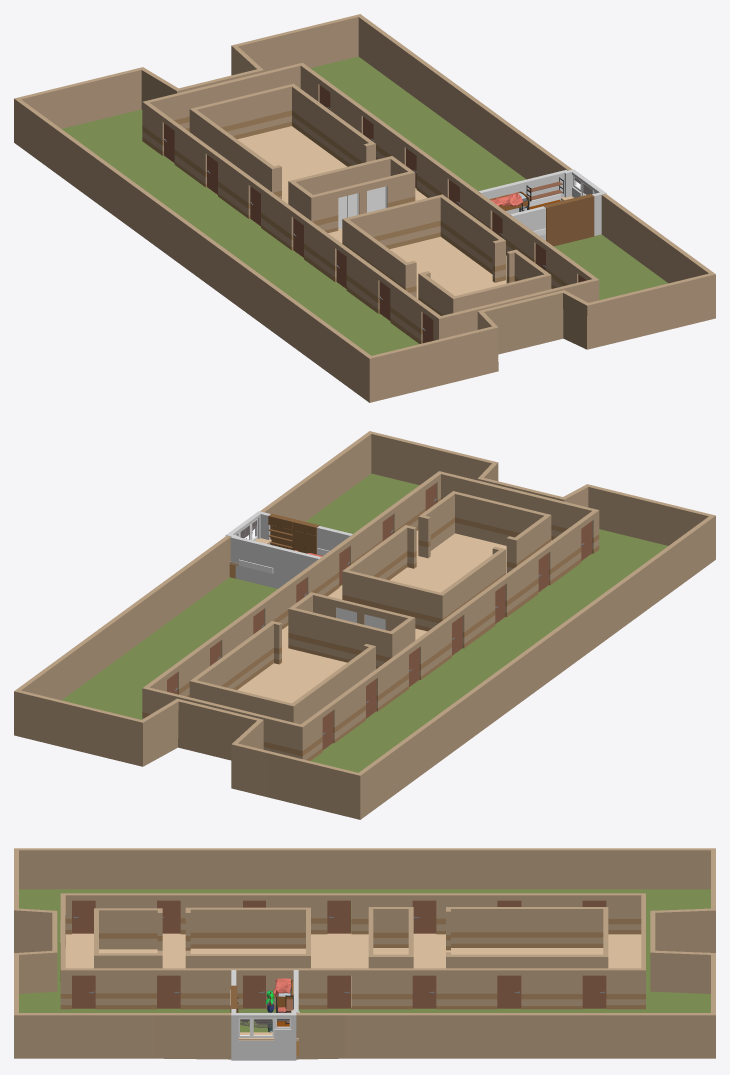
Rendered from LVL1.fbx.
3 views of the same model, one above another, from view 1: azimuth 30°, elevation 25°; view 2: azimuth 150°, elevation 25°; view 3: azimuth 270°, elevation 25° (orthographic).
Parts seen in each view (by area): view 1: LVL1, LVL1_layout, LVL1_doors, RoomWall, Szafa, Elevator1; view 2: LVL1, LVL1_layout, LVL1_doors, RoomWall, Szafa; view 3: LVL1, LVL1_layout, LVL1_doors, RoomWall, Bed, Okna.
Part boxes in pixels (left/top/right/bottom): LVL1: left=14, top=14, right=715, bottom=402; LVL1_layout: left=142, top=63, right=599, bottom=343; LVL1_doors: left=163, top=85, right=586, bottom=343; RoomWall: left=478, top=169, right=606, bottom=240; Szafa: left=543, top=194, right=594, bottom=246; Elevator1: left=338, top=186, right=387, bottom=228; LVL1: left=14, top=431, right=715, bottom=819; LVL1_layout: left=142, top=471, right=599, bottom=760; LVL1_doors: left=167, top=483, right=591, bottom=750; RoomWall: left=225, top=511, right=352, bottom=588; Szafa: left=268, top=513, right=319, bottom=554; LVL1: left=14, top=848, right=715, bottom=1059; LVL1_layout: left=60, top=893, right=645, bottom=1009; LVL1_doors: left=72, top=900, right=606, bottom=1008; RoomWall: left=231, top=970, right=298, bottom=1060; Bed: left=273, top=978, right=293, bottom=1012; Okna: left=238, top=1017, right=291, bottom=1037.
Size of the model in its own units: 2142 by 282 by 3800.
